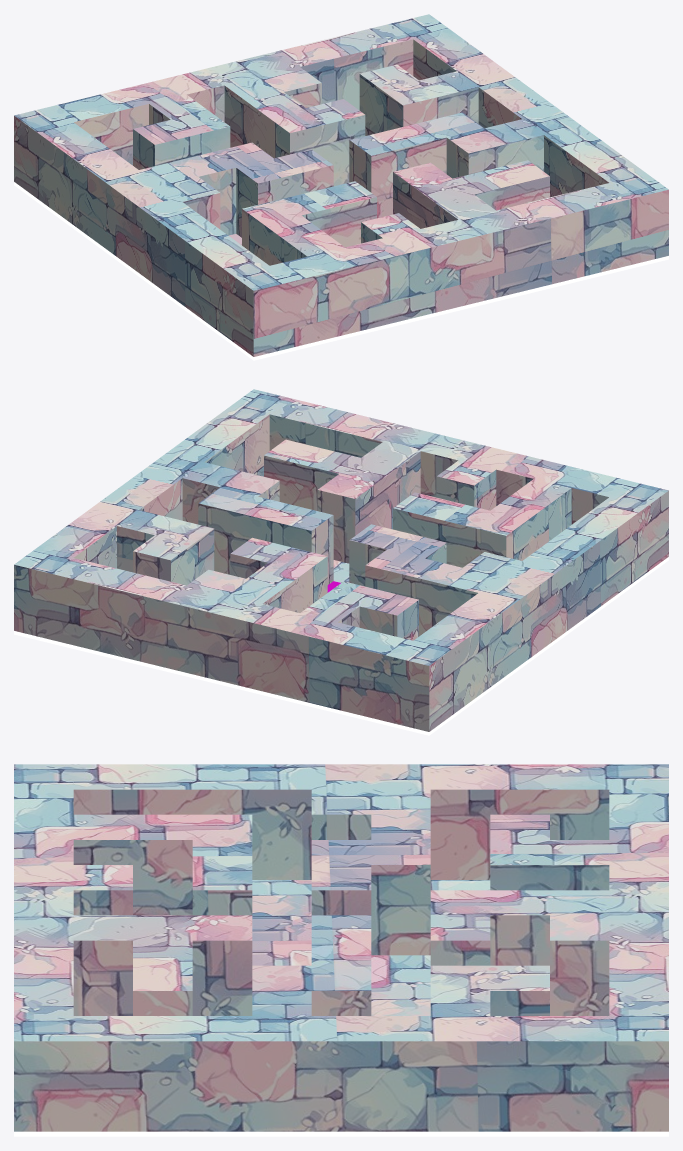
File: floor6.glb
The picture shows the model from 3 angles, top to bottom: view 1: azimuth 30°, elevation 25°; view 2: azimuth 150°, elevation 25°; view 3: azimuth 270°, elevation 25°; orthographic projection. The views are drawn at different scales.
Visible parts, largest first — view 1: Floor6; view 2: Floor6; view 3: Floor6.
Part boxes in pixels (x1,y1,x2,y2): Floor6: (14, 14, 668, 360); Floor6: (14, 389, 668, 735); Floor6: (14, 764, 668, 1136).
Size of what is drawn, in the model's own units: 32 by 5.14 by 32.
4 materials, 1 textured.
